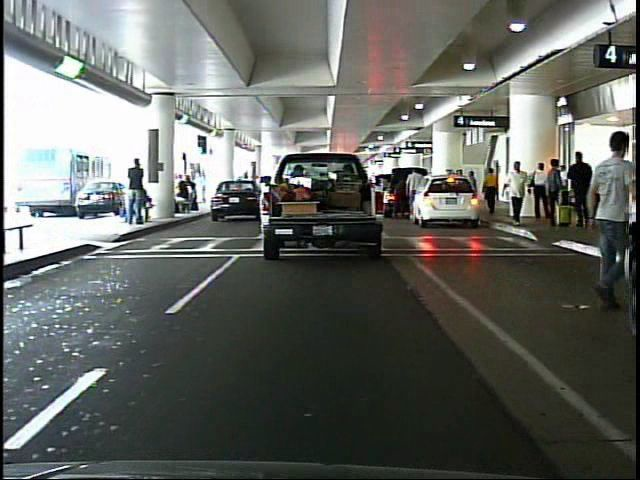person: (569, 144, 597, 232), (504, 156, 535, 230), (600, 162, 633, 221), (128, 158, 152, 228), (403, 164, 427, 220), (545, 156, 563, 228), (530, 161, 550, 221), (484, 163, 502, 217)
